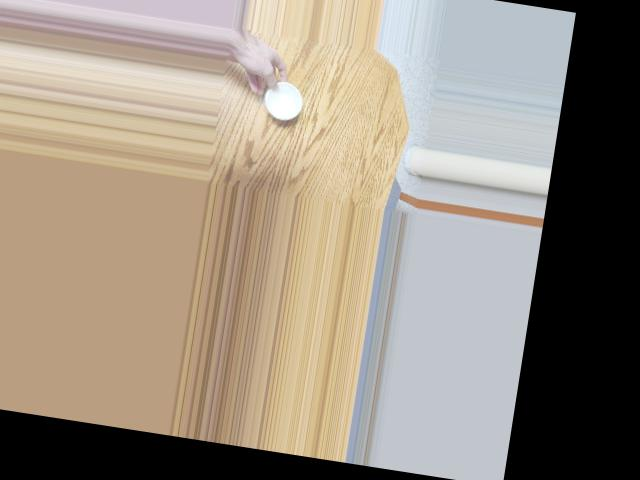cotage: (262, 76, 306, 125)
